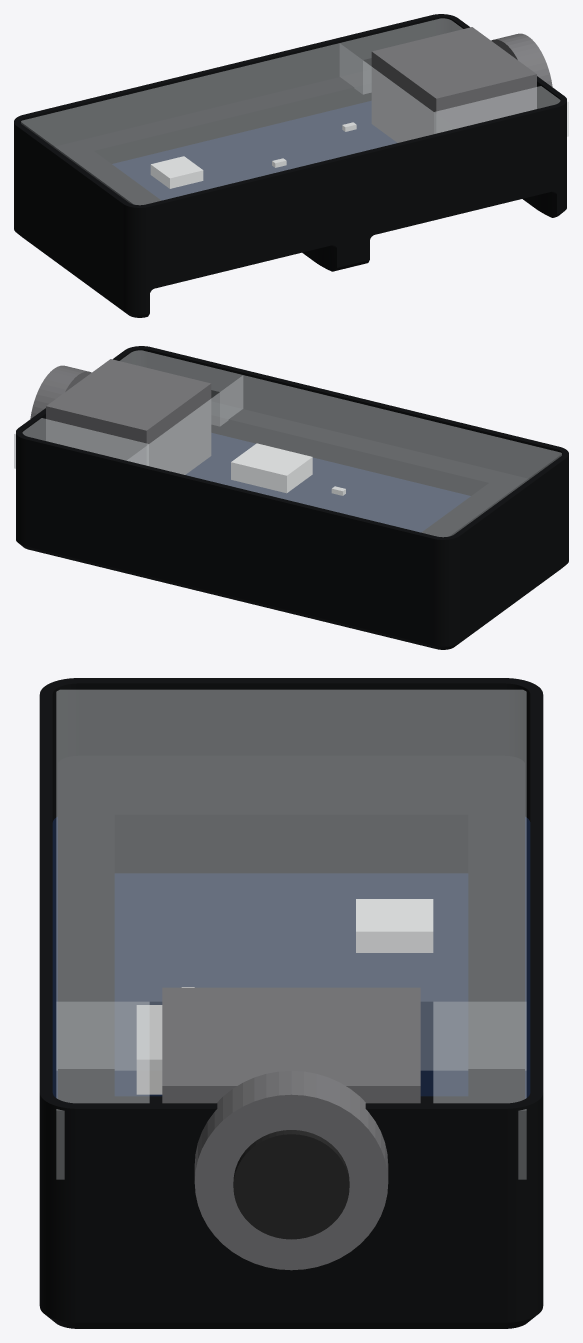
File: power-jack.glb
The picture shows the model from 3 angles, top to bottom: view 1: azimuth 30°, elevation 25°; view 2: azimuth 150°, elevation 25°; view 3: azimuth 270°, elevation 25°; orthographic projection. The views are drawn at different scales.
Parts seen in each view (by area): view 1: black, glass, derived_jack_body, pcb, derived_jack_barrel, derived_controller; view 2: black, glass, derived_jack_body, pcb, derived_regulator, derived_jack_barrel; view 3: black, glass, pcb, derived_jack_body, derived_jack_barrel, derived_jack_socket, derived_controller, derived_regulator.
Boxes of the visible parts, <box> form: black: <box>14,14,566,317</box>; glass: <box>21,18,568,204</box>; derived_jack_body: <box>371,27,536,142</box>; pcb: <box>112,101,396,200</box>; derived_jack_barrel: <box>491,33,552,86</box>; derived_controller: <box>150,156,203,188</box>; black: <box>16,346,568,649</box>; glass: <box>14,350,561,536</box>; derived_jack_body: <box>46,359,211,474</box>; pcb: <box>186,433,470,532</box>; derived_regulator: <box>231,443,312,493</box>; derived_jack_barrel: <box>30,365,91,418</box>; black: <box>39,678,543,1328</box>; glass: <box>56,690,526,1179</box>; pcb: <box>52,817,530,1098</box>; derived_jack_body: <box>162,987,420,1103</box>; derived_jack_barrel: <box>194,1070,388,1270</box>; derived_jack_socket: <box>233,1130,349,1239</box>; derived_controller: <box>356,899,433,952</box>; derived_regulator: <box>136,1005,162,1094</box>.
Size of the model in its own units: 0.0415 by 0.011 by 0.0195.
